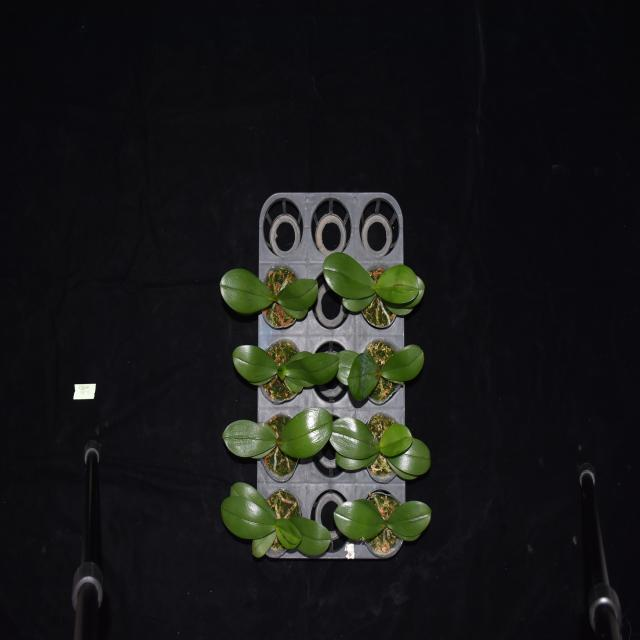leaf: (322, 244, 378, 298), (220, 494, 276, 548), (278, 405, 333, 459), (219, 267, 276, 315), (220, 417, 278, 462), (333, 498, 385, 542), (329, 417, 382, 458), (385, 499, 432, 542), (375, 259, 419, 304), (388, 433, 434, 476), (286, 516, 332, 558), (232, 345, 278, 385), (231, 482, 277, 522), (379, 345, 426, 384), (347, 349, 379, 404), (288, 351, 339, 383), (270, 278, 321, 309), (378, 424, 414, 458), (332, 448, 380, 472), (276, 514, 302, 552), (337, 348, 362, 386), (341, 291, 377, 317), (250, 527, 276, 559), (385, 457, 419, 480), (383, 297, 418, 319), (278, 301, 310, 320), (286, 348, 312, 362), (284, 376, 304, 393), (276, 362, 286, 381)
